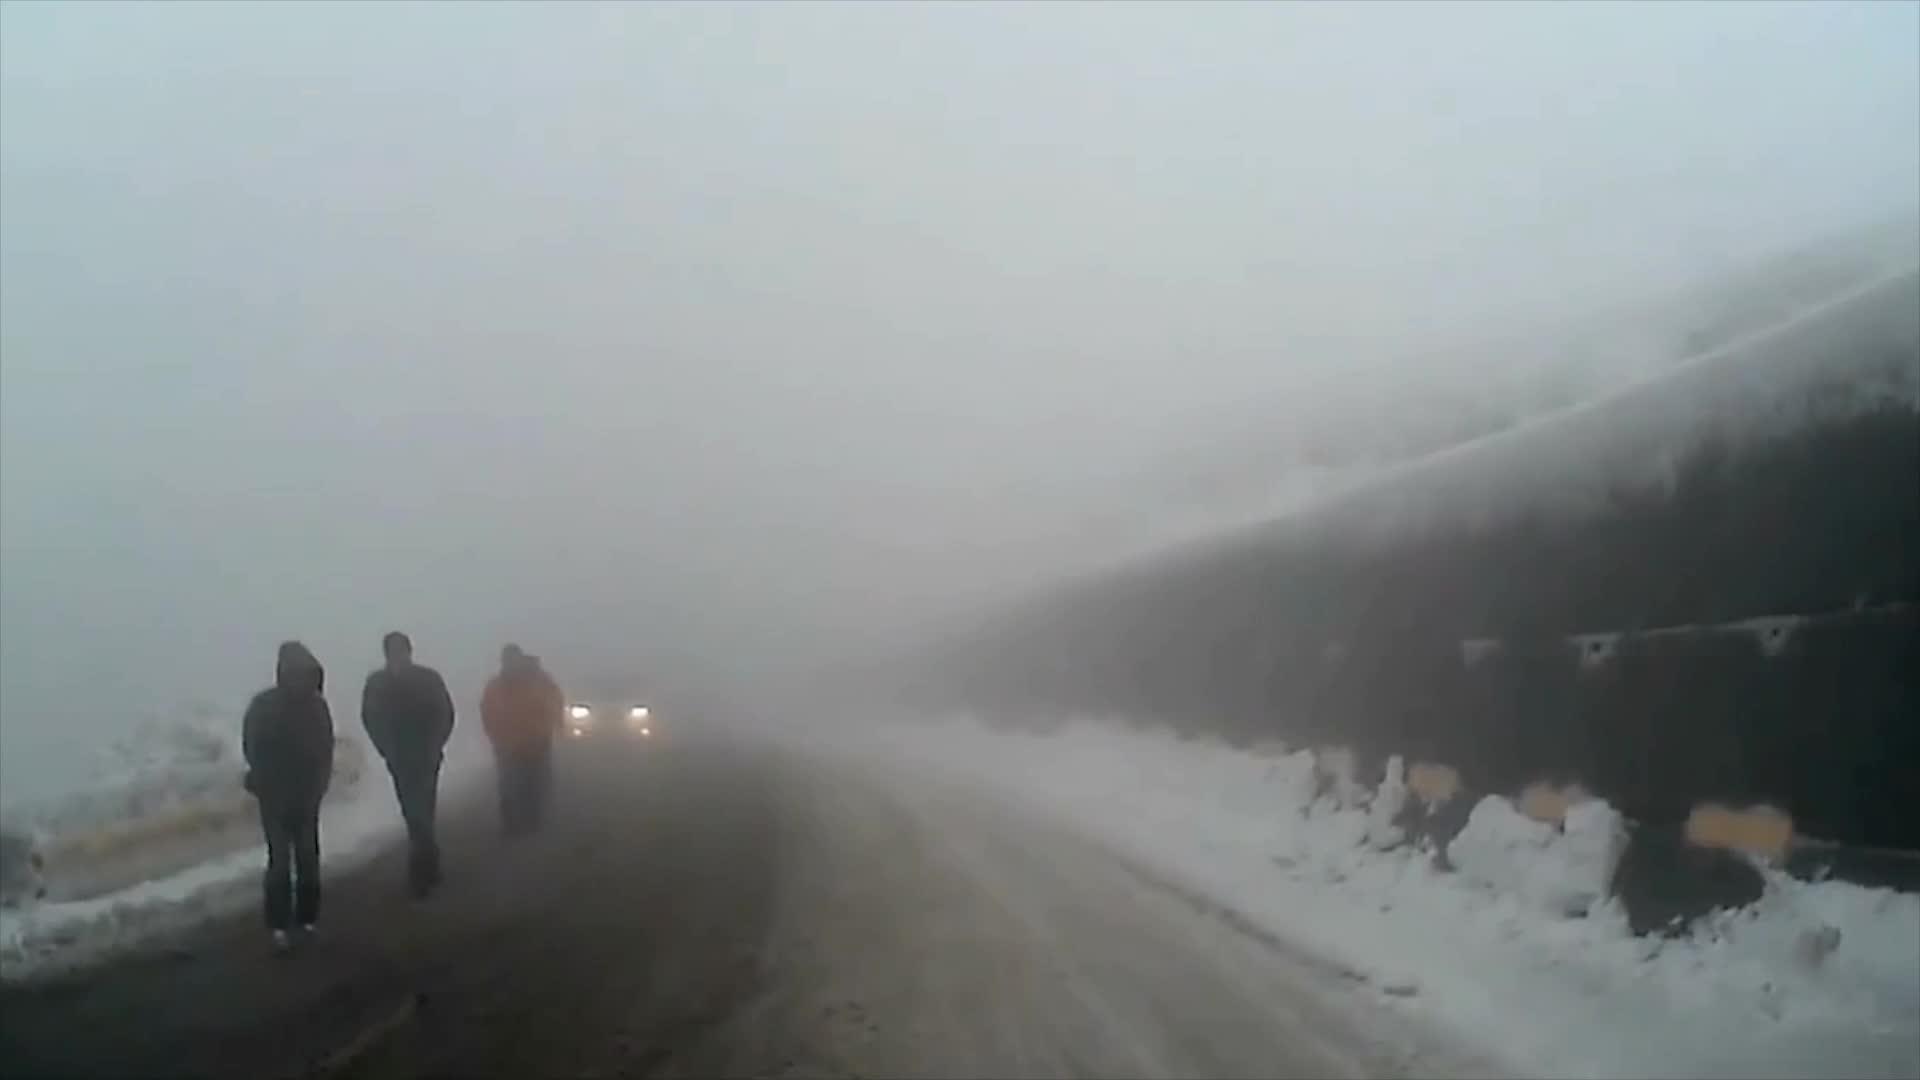pedestrian: (241, 636, 338, 940), (360, 631, 456, 903), (477, 639, 565, 841)
vehicle: (562, 675, 660, 753)
